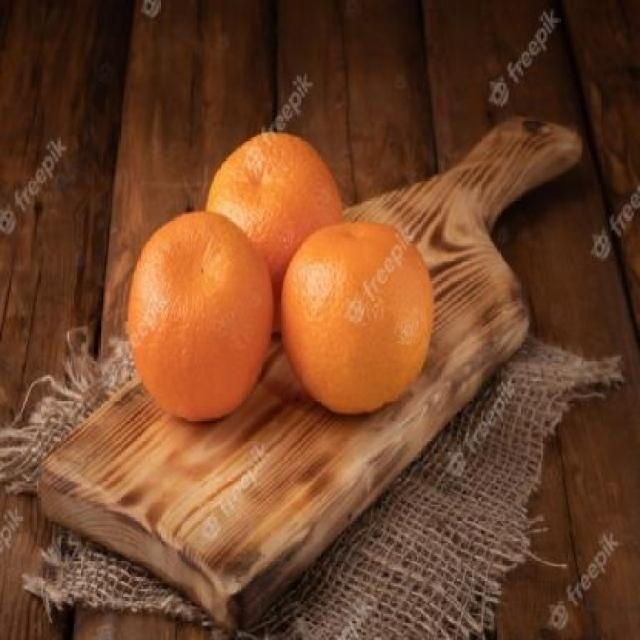Orange: (124, 208, 274, 422), (277, 218, 434, 416)
